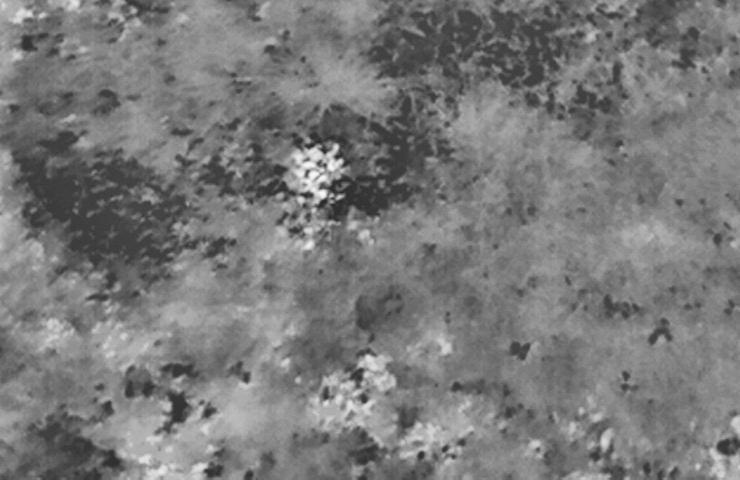landmines: (292, 137, 352, 212)
